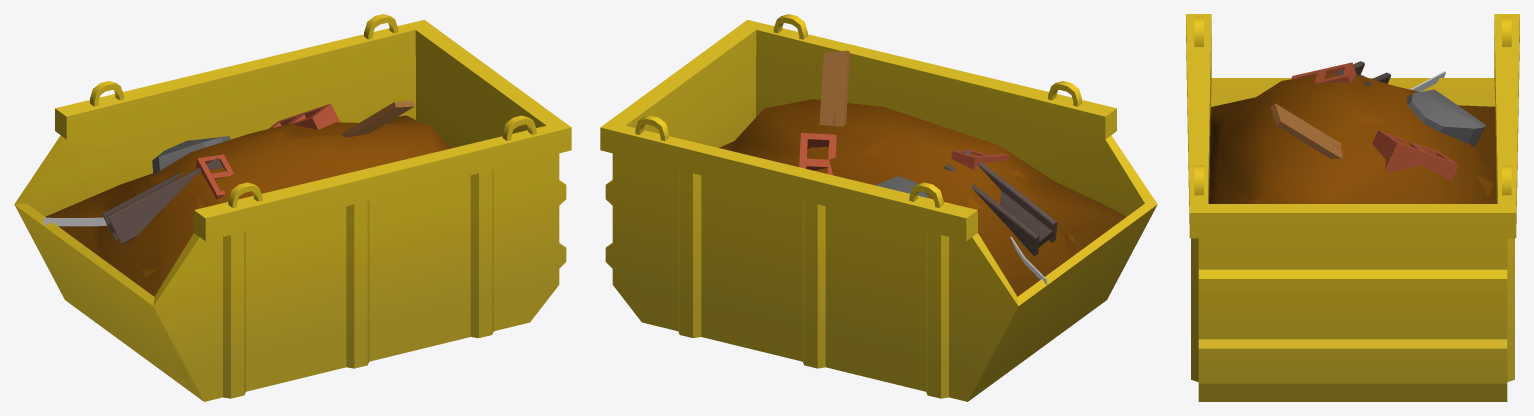
The model's file is RubbleContainer_C_2.fbx.
3 renders of one model, left to right at view 1: azimuth 30°, elevation 25°; view 2: azimuth 150°, elevation 25°; view 3: azimuth 270°, elevation 25°, orthographic. The views are drawn at different scales.
Visible parts, largest first — view 1: RubbleContainer_C_2; view 2: RubbleContainer_C_2; view 3: RubbleContainer_C_2.
Boxes of the visible parts, x1,y1,x2,y2 form: RubbleContainer_C_2: (14, 14, 571, 401); RubbleContainer_C_2: (600, 14, 1157, 401); RubbleContainer_C_2: (1186, 14, 1519, 401).
Bounding box in the file's own units: 413 × 210 × 260.
